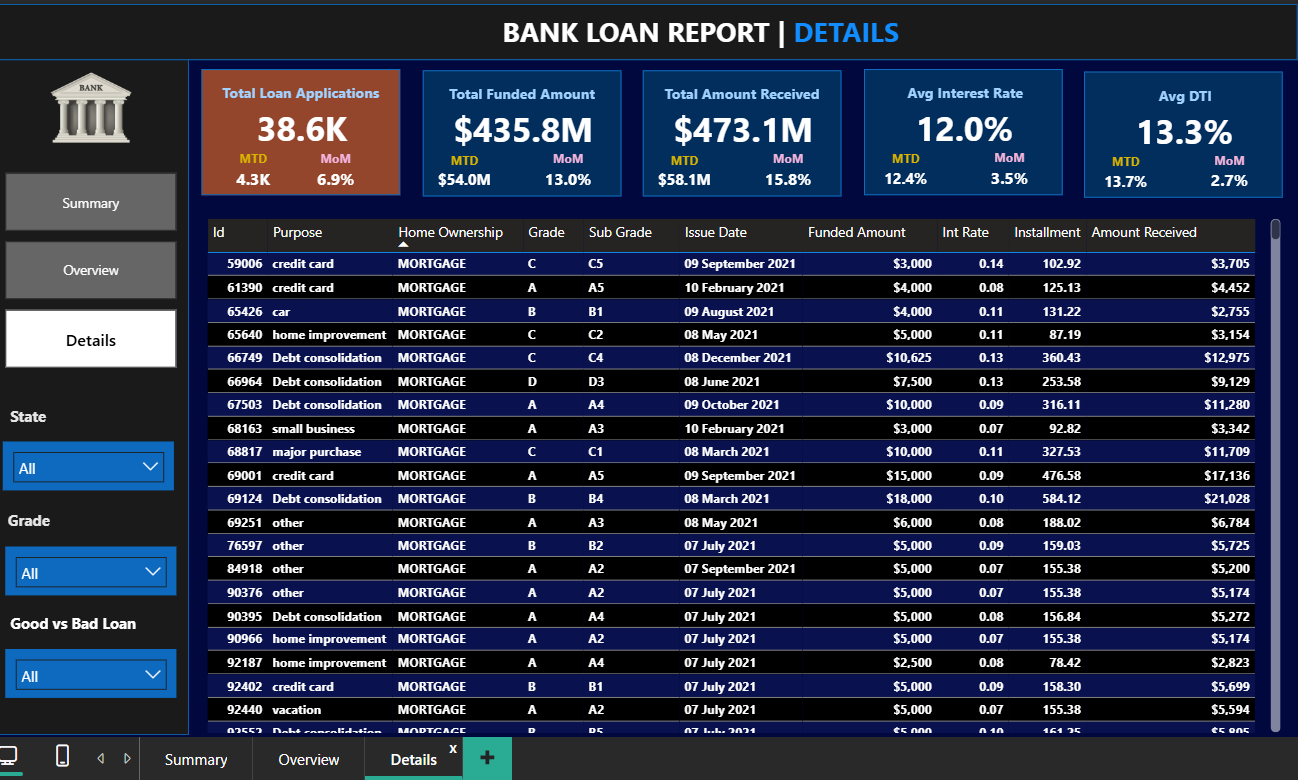

The page's visual inventory and layout, read from the dashboard file:
{"tool":"powerbi","page":{"name":"Details","canvas":[1280,720],"ordinal":2},"visuals":[{"type":"shape","box":[0,52.8,191.4,665],"z":0},{"type":"shape","box":[853.4,63.8,195.1,123.9],"z":0,"group":"g4"},{"type":"shape","box":[203.7,64.4,195.1,123.9],"z":0,"group":"g1"},{"type":"shape","box":[420.2,65,195.1,123.9],"z":0,"group":"g2"},{"type":"shape","box":[636.8,65.6,195.1,123.9],"z":0,"group":"g3"},{"type":"shape","box":[1069.9,66.3,195.1,123.9],"z":0,"group":"g5"},{"type":"shape","box":[0,0,1279.8,55.2],"z":1000},{"type":"card","fields":{"Values":["Measures Table.Avg Interest Rate"]},"box":[871.8,98.2,160.7,47.9],"z":1000,"group":"g4"},{"type":"card","fields":{"Values":["Measures Table.Total Loan Applications"]},"box":[222.1,98.8,160.7,47.9],"z":1000,"group":"g1"},{"type":"card","fields":{"Values":["Measures Table.Total Funded Amount"]},"box":[438.6,99.4,160.7,47.9],"z":1000,"group":"g2"},{"type":"card","fields":{"Values":["Measures Table.Total Received Amount"]},"box":[655.2,100,160.7,47.9],"z":1000,"group":"g3"},{"type":"card","fields":{"Values":["Measures Table.Avg DTI_"]},"box":[1088.3,100.7,160.7,47.9],"z":1000,"group":"g5"},{"type":"textbox","box":[350.9,3.7,685.9,49.1],"z":2000},{"type":"textbox","box":[853.4,72.4,195.1,29.4],"z":2000,"group":"g4"},{"type":"textbox","box":[203.7,73,195.1,29.4],"z":2000,"group":"g1"},{"type":"textbox","box":[420.2,73.6,195.1,29.4],"z":2000,"group":"g2"},{"type":"textbox","box":[636.8,74.2,195.1,29.4],"z":2000,"group":"g3"},{"type":"textbox","box":[1069.9,74.9,195.1,29.4],"z":2000,"group":"g5"},{"type":"group","id":"g1","title":"Group 1","box":[203.7,64.4,195.1,123.9],"z":3000},{"type":"card","title":"MTD","fields":{"Values":["Measures Table.Avg MTD Interest Rate"]},"box":[862.1,143.1,65,44.2],"z":3000,"group":"g4"},{"type":"card","title":"MTD","fields":{"Values":["Measures Table.Total MTD"]},"box":[222.1,144.2,65,44.2],"z":3000,"group":"g1"},{"type":"card","title":"MTD","fields":{"Values":["Measures Table.MTD Funded Amount"]},"box":[428.9,144.3,65,44.2],"z":3000,"group":"g2"},{"type":"card","title":"MTD","fields":{"Values":["Measures Table.MTD Received Amount"]},"box":[645.5,144.9,65,44.2],"z":3000,"group":"g3"},{"type":"card","title":"MTD","fields":{"Values":["Measures Table.MTD DTI"]},"box":[1078.6,145.6,65,44.2],"z":3000,"group":"g5"},{"type":"group","id":"g2","title":"Group 1","box":[420.2,65,195.1,123.9],"z":4000},{"type":"card","title":"MoM","fields":{"Values":["Measures Table.MoM Interest Rate"]},"box":[963.2,142.6,65,44.2],"z":4000,"group":"g4"},{"type":"card","title":"MoM","fields":{"Values":["Measures Table.Mom funded Amount"]},"box":[530,143.8,65,44.2],"z":4000,"group":"g2"},{"type":"card","title":"MoM","fields":{"Values":["Measures Table.Mom Loan Applications"]},"box":[303.1,144.2,65,44.2],"z":4000,"group":"g1"},{"type":"card","title":"MoM","fields":{"Values":["Measures Table.MoM Received Amount"]},"box":[746.6,144.4,65,44.2],"z":4000,"group":"g3"},{"type":"card","title":"MoM","fields":{"Values":["Measures Table.Mom DTI"]},"box":[1179.7,145.1,65,44.2],"z":4000,"group":"g5"},{"type":"group","id":"g3","title":"Group 1","box":[636.8,65.6,195.1,123.9],"z":5000},{"type":"group","id":"g4","title":"Group 1","box":[853.4,63.8,195.1,123.9],"z":6000},{"type":"group","id":"g5","title":"Group 1","box":[1069.9,66.3,195.1,123.9],"z":7000},{"type":"slicer","fields":{"Values":["Bank_Loan_Data.address_state"]},"box":[8.6,429.5,168.1,47.9],"z":8000},{"type":"textbox","box":[11,385.3,73.6,44.2],"z":9000},{"type":"slicer","fields":{"Values":["Bank_Loan_Data.grade"]},"box":[11,532.5,168.1,47.9],"z":10000},{"type":"textbox","box":[8.6,487.1,61.4,45.4],"z":11000},{"type":"slicer","fields":{"Values":["Bank_Loan_Data.Good Loan Vs Bad Loan"]},"box":[11,633.1,168.1,47.9],"z":12000},{"type":"textbox","box":[11,589,155.8,44.2],"z":13000},{"type":"tableEx","fields":{"Values":["Bank_Loan_Data.id","Bank_Loan_Data.purpose","Bank_Loan_Data.home_ownership","Bank_Loan_Data.grade","Bank_Loan_Data.sub_grade","Bank_Loan_Data.issue_date","Measures Table.Total Funded Amount","Sum(Bank_Loan_Data.int_rate)","Sum(Bank_Loan_Data.installment)","Measures Table.Total Received Amount"]},"box":[203.7,206.1,1063.8,514.1],"z":14000},{"type":"pageNavigator","box":[11,165.6,168.1,193.9],"z":15000},{"type":"image","box":[40.5,62.6,109.2,78.5],"z":16000}]}

Visuals, with their boxes on the page's 1280x720 design canvas (x1, y1, x2, y2). These are canvas units, not pixel positions in the 1298x780 screenshot, which may show the page scaled, cropped or inside an application window:
shape: rect(0, 53, 191, 718)
shape: rect(853, 64, 1048, 188)
shape: rect(204, 64, 399, 188)
shape: rect(420, 65, 615, 189)
shape: rect(637, 66, 832, 190)
shape: rect(1070, 66, 1265, 190)
shape: rect(0, 0, 1280, 55)
card - Measures Table.Avg Interest Rate: rect(872, 98, 1032, 146)
card - Measures Table.Total Loan Applications: rect(222, 99, 383, 147)
card - Measures Table.Total Funded Amount: rect(439, 99, 599, 147)
card - Measures Table.Total Received Amount: rect(655, 100, 816, 148)
card - Measures Table.Avg DTI_: rect(1088, 101, 1249, 149)
textbox: rect(351, 4, 1037, 53)
textbox: rect(853, 72, 1048, 102)
textbox: rect(204, 73, 399, 102)
textbox: rect(420, 74, 615, 103)
textbox: rect(637, 74, 832, 104)
textbox: rect(1070, 75, 1265, 104)
"Group 1" group: rect(204, 64, 399, 188)
"MTD" card: rect(862, 143, 927, 187)
"MTD" card: rect(222, 144, 287, 188)
"MTD" card: rect(429, 144, 494, 188)
"MTD" card: rect(646, 145, 710, 189)
"MTD" card: rect(1079, 146, 1144, 190)
"Group 1" group: rect(420, 65, 615, 189)
"MoM" card: rect(963, 143, 1028, 187)
"MoM" card: rect(530, 144, 595, 188)
"MoM" card: rect(303, 144, 368, 188)
"MoM" card: rect(747, 144, 812, 189)
"MoM" card: rect(1180, 145, 1245, 189)
"Group 1" group: rect(637, 66, 832, 190)
"Group 1" group: rect(853, 64, 1048, 188)
"Group 1" group: rect(1070, 66, 1265, 190)
slicer - Bank_Loan_Data.address_state: rect(9, 430, 177, 477)
textbox: rect(11, 385, 85, 430)
slicer - Bank_Loan_Data.grade: rect(11, 532, 179, 580)
textbox: rect(9, 487, 70, 532)
slicer - Bank_Loan_Data.Good Loan Vs Bad Loan: rect(11, 633, 179, 681)
textbox: rect(11, 589, 167, 633)
tableEx - Bank_Loan_Data.id x Bank_Loan_Data.purpose: rect(204, 206, 1268, 720)
pageNavigator: rect(11, 166, 179, 360)
image: rect(40, 63, 150, 141)
